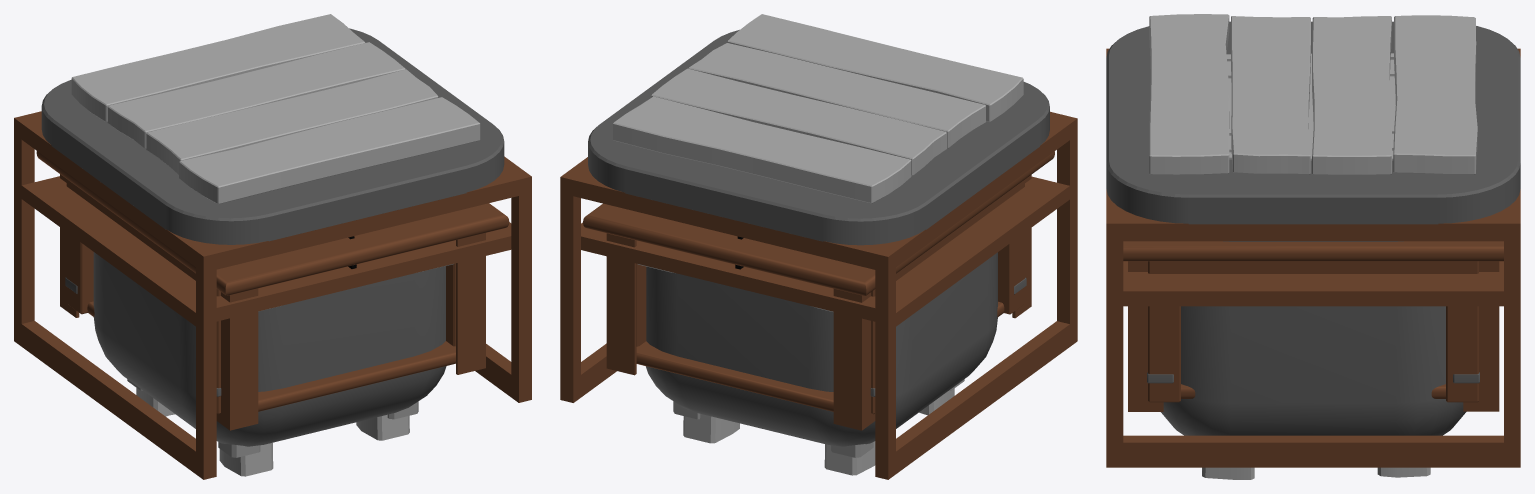
File: Tables.fbx
3 renders of one model, left to right at view 1: azimuth 30°, elevation 25°; view 2: azimuth 150°, elevation 25°; view 3: azimuth 270°, elevation 25°, orthographic. The views are drawn at different scales.
Parts seen in each view (by area): view 1: Table10, Table4, BevelCube, Table2, Table5, Table7, Table1; view 2: Table10, Table4, BevelCube, Table2, Table5, Table7, Table1; view 3: Table10, Table4, BevelCube, Table2, Table5, Table7, Table6.
Boxes of the visible parts, x1,y1,x2,y2 form: Table10: (71,14,480,476); Table4: (14,111,531,479); BevelCube: (93,252,446,446); Table2: (41,28,504,244); Table5: (36,151,509,430); Table7: (66,179,455,414); Table1: (127,379,418,457); Table10: (613,14,1023,475); Table4: (560,111,1077,479); BevelCube: (646,252,997,446); Table2: (588,29,1049,245); Table5: (583,151,1054,430); Table7: (636,179,1024,414); Table1: (673,379,964,457); Table10: (1149,14,1477,479); Table4: (1106,48,1520,467); BevelCube: (1161,241,1466,435); Table2: (1106,21,1520,224); Table5: (1123,241,1503,411); Table7: (1148,261,1478,402); Table6: (1147,372,1479,383).
Bounding box in the file's own units: 1.25 × 1.15 × 1.25.
